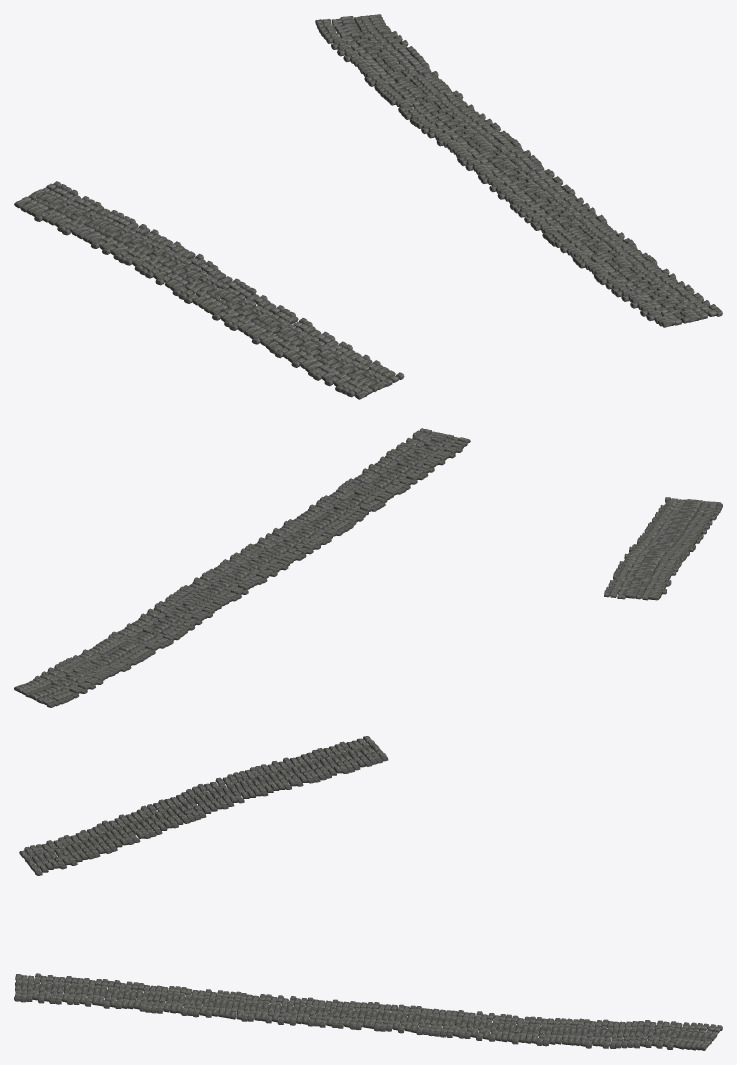
The model's file is Terrain_Step.fbx.
3 renders of one model, top to bottom at view 1: azimuth 30°, elevation 25°; view 2: azimuth 150°, elevation 25°; view 3: azimuth 270°, elevation 25°, orthographic. The views are drawn at different scales.
Parts seen in each view (by area): view 1: Steps; view 2: Steps; view 3: Steps.
Part boxes in pixels (left/top/right/bottom): Steps: left=14, top=14, right=722, bottom=399; Steps: left=14, top=428, right=722, bottom=707; Steps: left=14, top=736, right=722, bottom=1050.
Bounding box in the file's own units: 36.07 × 6.46 × 46.78.
